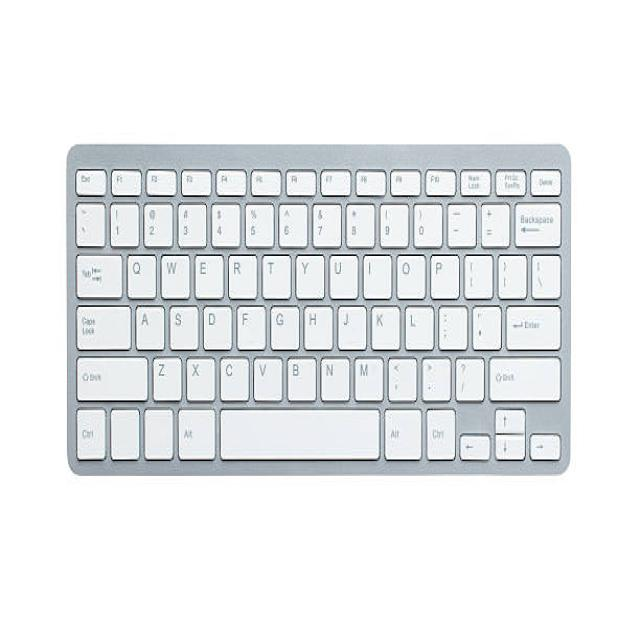keyboard: (68, 152, 566, 468)
